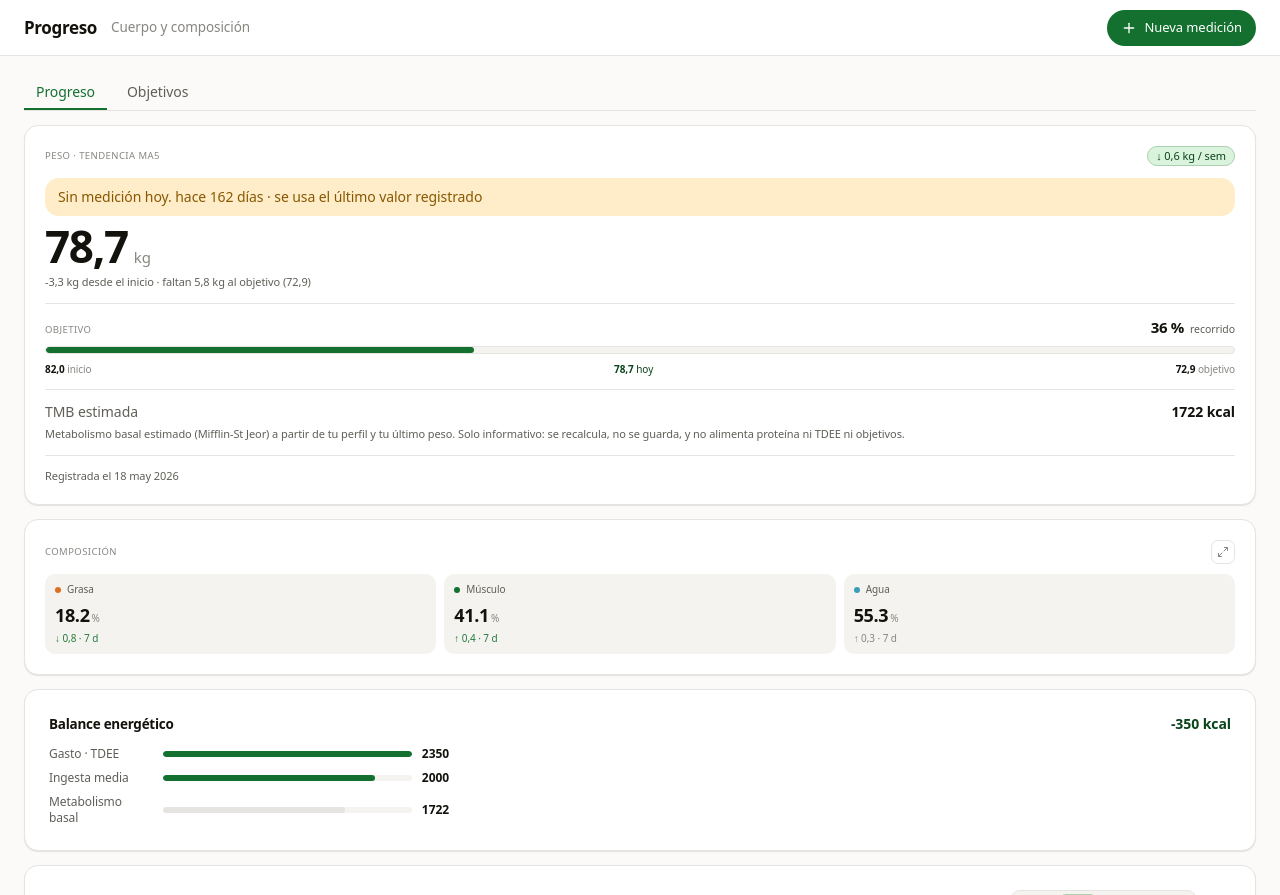
Test: ProgresoPage › opens the expanded composition chart from a composition tile
The width and height of the screenshot is (1280, 895).
What coordinates should you click on to do the following:
click the button with test id "comp-tile-bodyFat"
I would click on:
 (72, 615)
Its box is x1=45 y1=574 x2=436 y2=654.
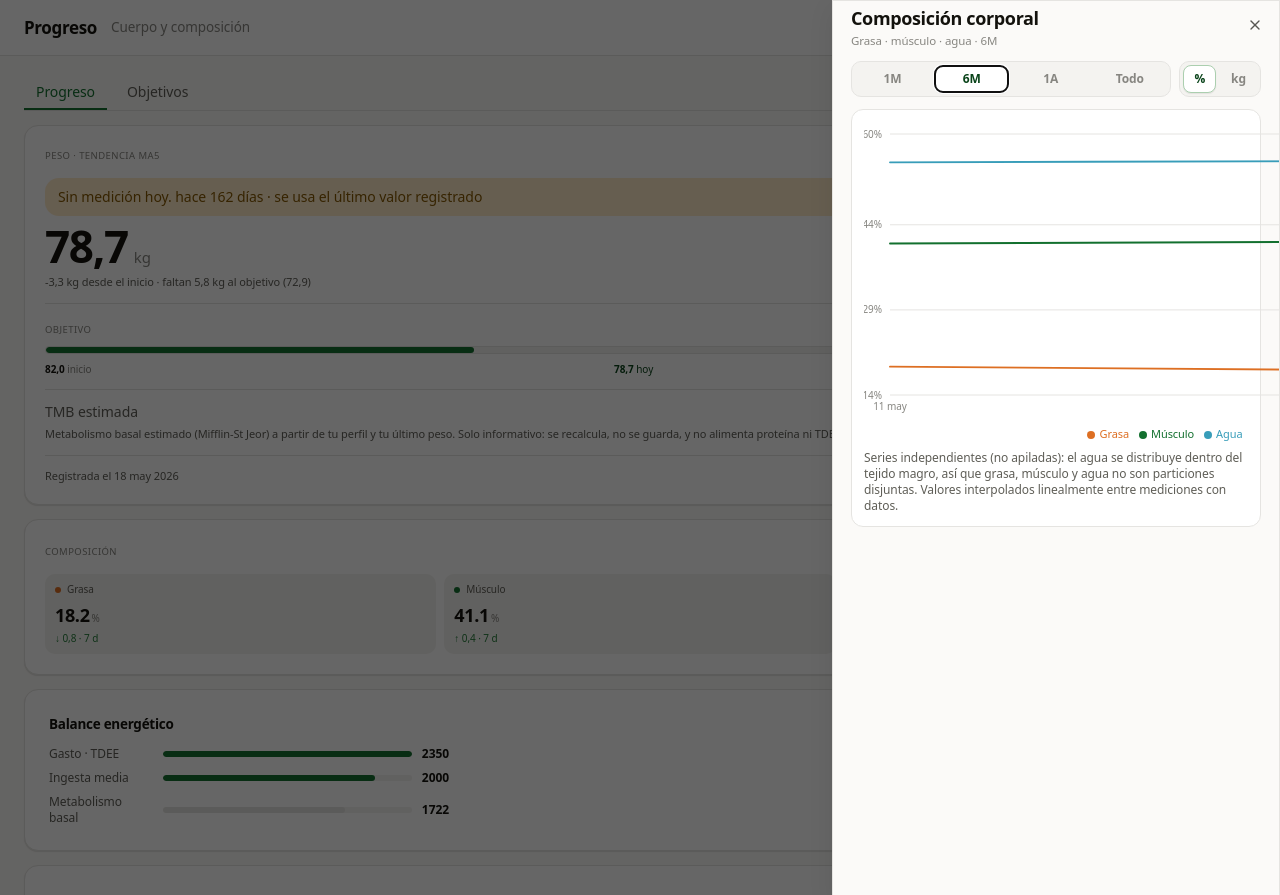
Result: the dialog shows "Grasa · músculo · agua · 6M" at x1=851 y1=33 x2=997 y2=48
